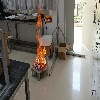fire: (35, 6, 46, 70)
